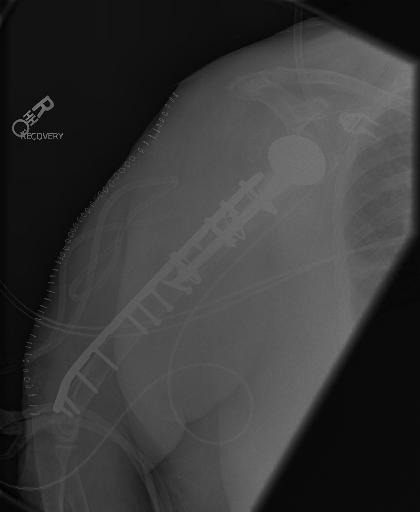implant: (172, 137, 328, 287), (54, 260, 171, 420)
